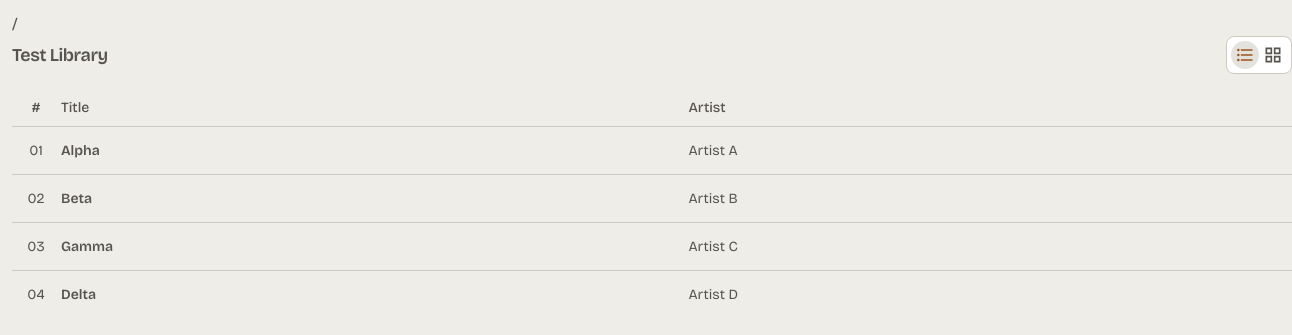
Test case: LibraryView › renders list view by default and toggles to grid view
Expected: the text "Alpha" is shown, [60,126,687,174]
Click the button named "grid view".
click(1273, 55)  # box [1259,41,1287,69]
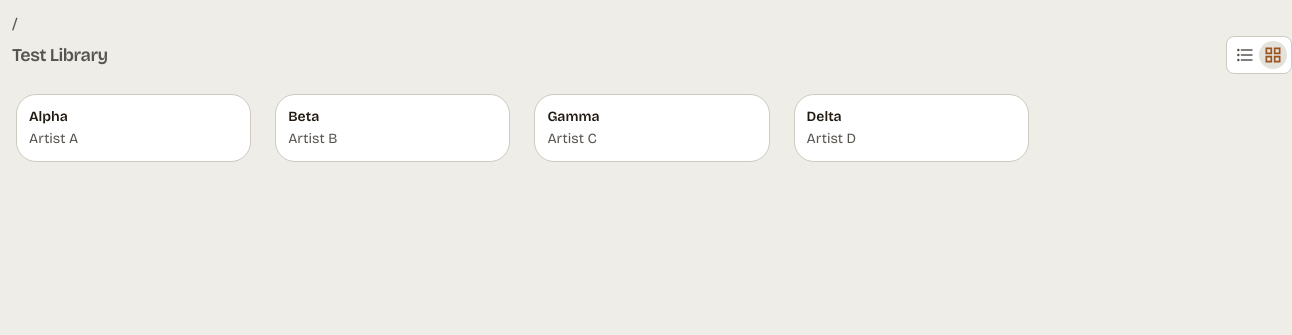
Expected: the link "Beta" is shown, [288,108,319,125]
Result: the table is gone
Result: the element with class "library-view-grid" is shown at [16,94,1029,162]
Click the button named "list view".
click(1245, 55)  # box [1231,41,1259,69]
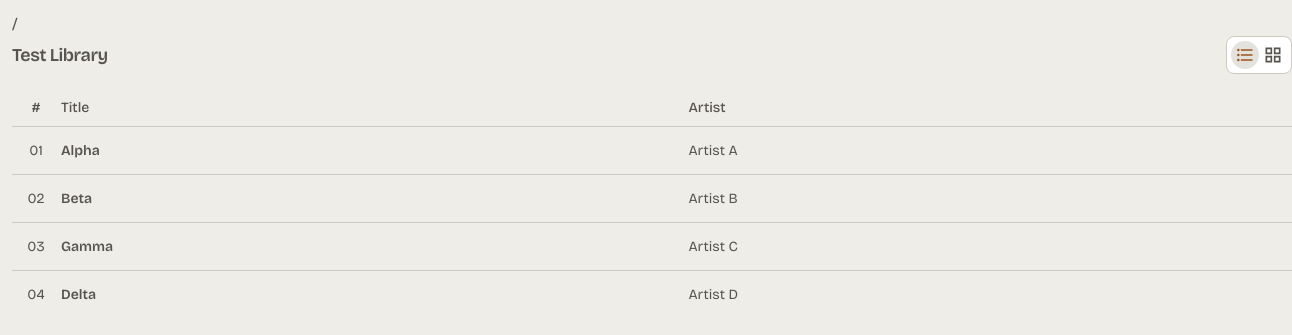
Result: the table is shown
Result: the element with class "library-view-grid" is gone
